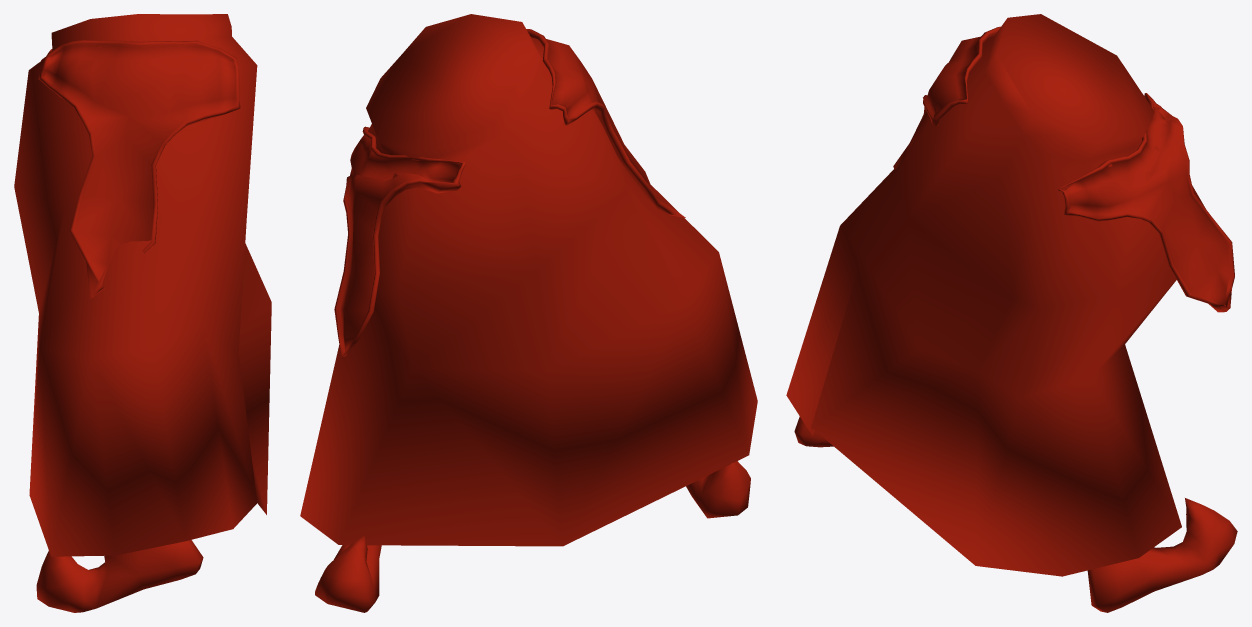
Rendered from bot_000073.obj.
3 renders of one model, left to right at view 1: azimuth 30°, elevation 25°; view 2: azimuth 150°, elevation 25°; view 3: azimuth 270°, elevation 25°, orthographic. The views are drawn at different scales.
Parts seen in each view (by area): view 1: LowPoly_Warlock.004_Plane.004; view 2: LowPoly_Warlock.004_Plane.004; view 3: LowPoly_Warlock.004_Plane.004.
Boxes of the visible parts, box(x1,y1,x2,y2) form: LowPoly_Warlock.004_Plane.004: box(14, 14, 271, 612); LowPoly_Warlock.004_Plane.004: box(300, 14, 757, 612); LowPoly_Warlock.004_Plane.004: box(786, 14, 1237, 612).
Bounding box in the file's own units: 0.681 × 1.16 × 0.8771.
